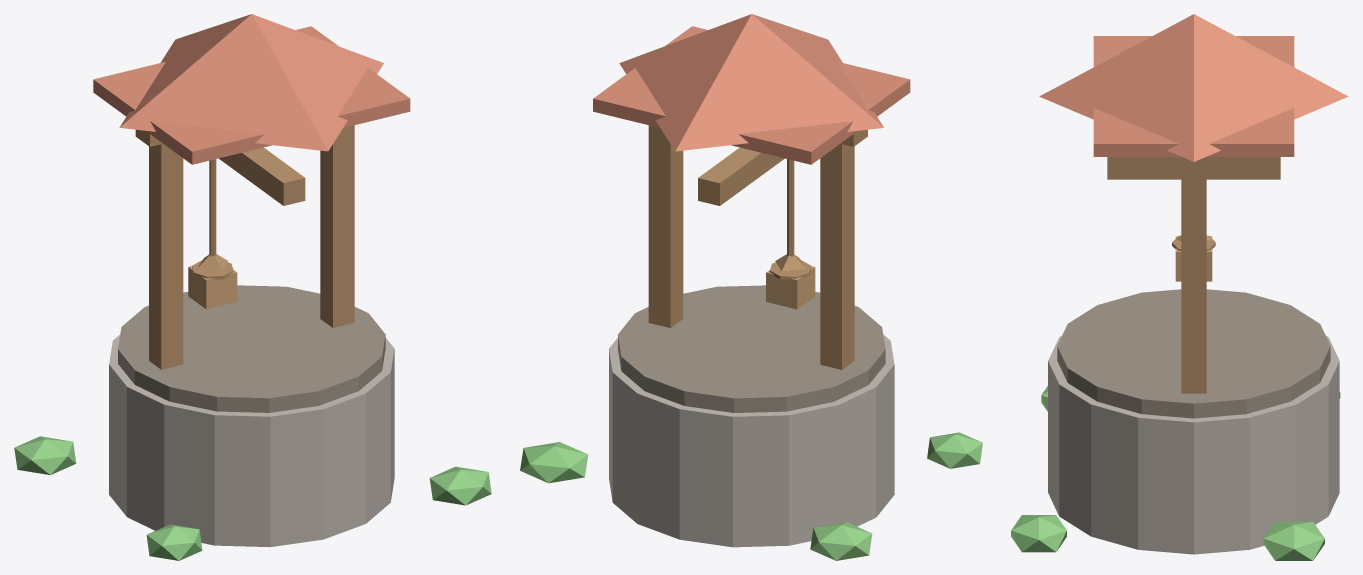
The model's file is well.glb.
3 views of the same model, side by side, from view 1: azimuth 30°, elevation 25°; view 2: azimuth 150°, elevation 25°; view 3: azimuth 270°, elevation 25° (orthographic).
Parts seen in each view (by area): view 1: well_root; view 2: well_root; view 3: well_root.
Part boxes in pixels (<box>): well_root: <box>14,14,491,560</box>; well_root: <box>520,14,982,560</box>; well_root: <box>1011,14,1348,560</box>.
Size of the model in its own units: 1.73 by 2.2 by 1.41.
